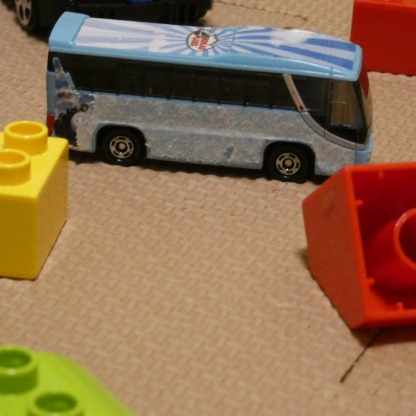car: (42, 15, 374, 174)
